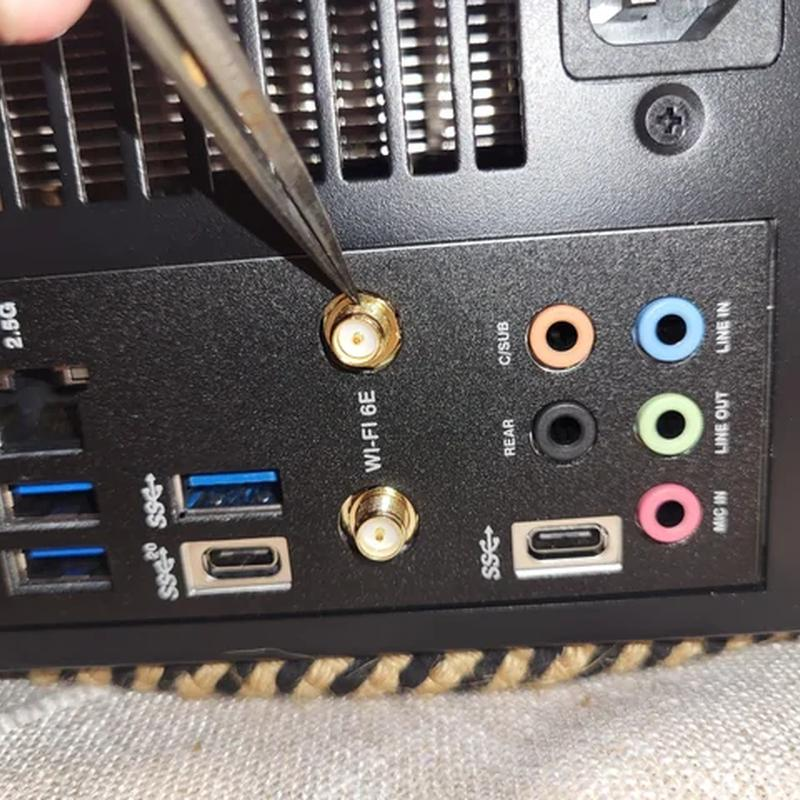AUDIO: (617, 275, 755, 372)
AUDIO_INPUT: (630, 473, 744, 553)
AUDIO_OUTPUT: (608, 389, 755, 467)
USB: (132, 462, 303, 529), (0, 540, 126, 601), (3, 475, 110, 530)
USBC: (140, 536, 302, 607), (504, 508, 623, 570)
